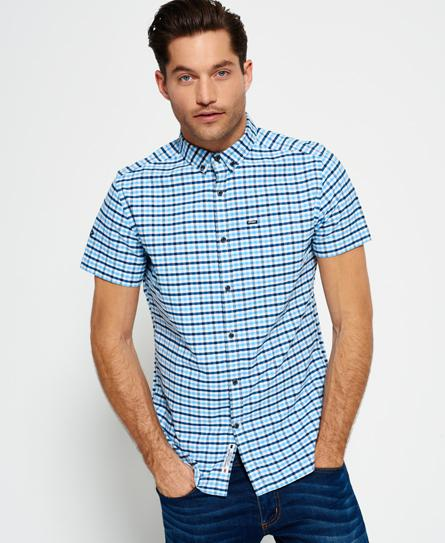teeshirt: (81, 115, 378, 498)
